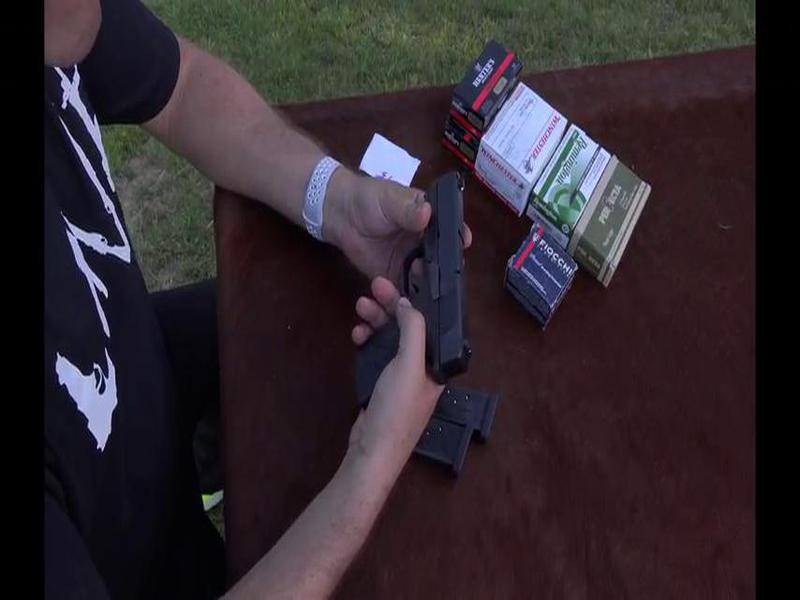Pistola: (361, 157, 482, 414)
